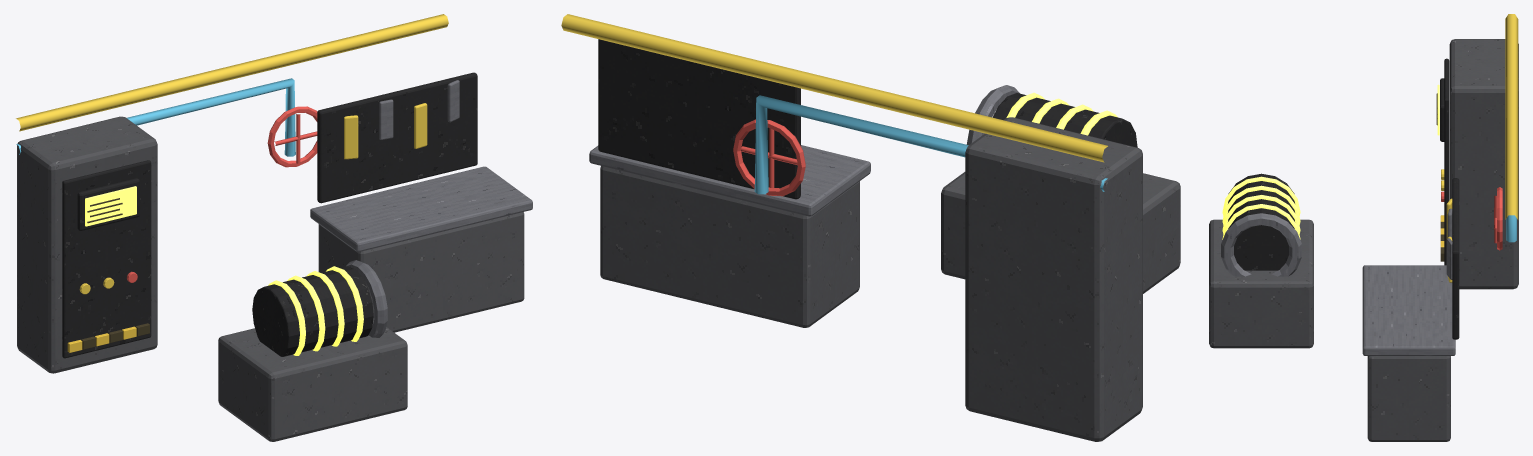
Rendered from department_engineering_dressing.glb.
3 renders of one model, left to right at view 1: azimuth 30°, elevation 25°; view 2: azimuth 150°, elevation 25°; view 3: azimuth 270°, elevation 25°, orthographic. The views are drawn at different scales.
Visible parts, largest first — view 1: DEPT_Engineering__Power_Cabinet, DEPT_Engineering__Generator_Base, DEPT_Engineering__Tool_Bench, DEPT_Engineering__Tool_Pegboard, DEPT_Engineering__Power_Face, DEPT_Engineering__Tool_Bench_Top, DEPT_Engineering__Generator_Core, DEPT_Engineering__Wall_Pipe_Hot, DEPT_Engineering__Wall_Pipe_Cold, DEPT_Engineering__Power_Screen_Glow, DEPT_Engineering__Flywheel, DEPT_Engineering__Power_Screen_Bezel (+9 smaller); view 2: DEPT_Engineering__Power_Cabinet, DEPT_Engineering__Tool_Bench, DEPT_Engineering__Tool_Pegboard, DEPT_Engineering__Wall_Pipe_Hot, DEPT_Engineering__Generator_Base, DEPT_Engineering__Tool_Bench_Top, DEPT_Engineering__Wall_Pipe_Cold, DEPT_Engineering__Generator_Core, DEPT_Engineering__Valve_Wheel, DEPT_Engineering__Flywheel; view 3: DEPT_Engineering__Power_Cabinet, DEPT_Engineering__Generator_Base, DEPT_Engineering__Tool_Bench_Top, DEPT_Engineering__Tool_Bench, DEPT_Engineering__Generator_Core, DEPT_Engineering__Wall_Pipe_Hot, DEPT_Engineering__Flywheel, DEPT_Engineering__Tool_Pegboard, DEPT_Engineering__Power_Face, DEPT_Engineering__Generator_Coil_1, DEPT_Engineering__Generator_Coil_3, DEPT_Engineering__Generator_Coil_2 (+3 smaller).
Boxes of the visible parts, x1,y1,x2,y2 form: DEPT_Engineering__Power_Cabinet: [17, 116, 157, 373]; DEPT_Engineering__Generator_Base: [218, 318, 407, 441]; DEPT_Engineering__Tool_Bench: [318, 212, 524, 332]; DEPT_Engineering__Tool_Pegboard: [317, 72, 477, 203]; DEPT_Engineering__Power_Face: [62, 160, 151, 358]; DEPT_Engineering__Tool_Bench_Top: [310, 166, 532, 251]; DEPT_Engineering__Generator_Core: [252, 266, 373, 356]; DEPT_Engineering__Wall_Pipe_Hot: [16, 14, 448, 131]; DEPT_Engineering__Wall_Pipe_Cold: [16, 78, 295, 156]; DEPT_Engineering__Power_Screen_Glow: [85, 186, 136, 226]; DEPT_Engineering__Flywheel: [345, 260, 387, 337]; DEPT_Engineering__Power_Screen_Bezel: [77, 178, 139, 230]; DEPT_Engineering__Power_Cabinet: [965, 117, 1142, 441]; DEPT_Engineering__Tool_Bench: [600, 166, 859, 327]; DEPT_Engineering__Tool_Pegboard: [598, 39, 800, 199]; DEPT_Engineering__Wall_Pipe_Hot: [561, 14, 1107, 162]; DEPT_Engineering__Generator_Base: [941, 172, 1180, 293]; DEPT_Engineering__Tool_Bench_Top: [589, 145, 870, 216]; DEPT_Engineering__Wall_Pipe_Cold: [754, 95, 1107, 194]; DEPT_Engineering__Generator_Core: [992, 93, 1137, 147]; DEPT_Engineering__Valve_Wheel: [733, 119, 805, 196]; DEPT_Engineering__Flywheel: [966, 85, 1019, 144]; DEPT_Engineering__Power_Cabinet: [1449, 39, 1518, 289]; DEPT_Engineering__Generator_Base: [1209, 219, 1313, 348]; DEPT_Engineering__Tool_Bench_Top: [1362, 265, 1455, 355]; DEPT_Engineering__Tool_Bench: [1367, 356, 1450, 441]; DEPT_Engineering__Generator_Core: [1228, 173, 1294, 270]; DEPT_Engineering__Wall_Pipe_Hot: [1505, 14, 1518, 219]; DEPT_Engineering__Flywheel: [1221, 213, 1301, 276]; DEPT_Engineering__Tool_Pegboard: [1452, 178, 1459, 339]; DEPT_Engineering__Power_Face: [1444, 58, 1449, 265]; DEPT_Engineering__Generator_Coil_1: [1222, 176, 1300, 215]; DEPT_Engineering__Generator_Coil_3: [1222, 195, 1300, 234]; DEPT_Engineering__Generator_Coil_2: [1222, 185, 1300, 224].
Size of the model in its own units: 4.1 by 2.09 by 2.6.
Materials: 9 (3 with a texture image).
